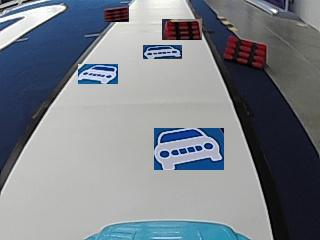bomb: (223, 37, 268, 68)
